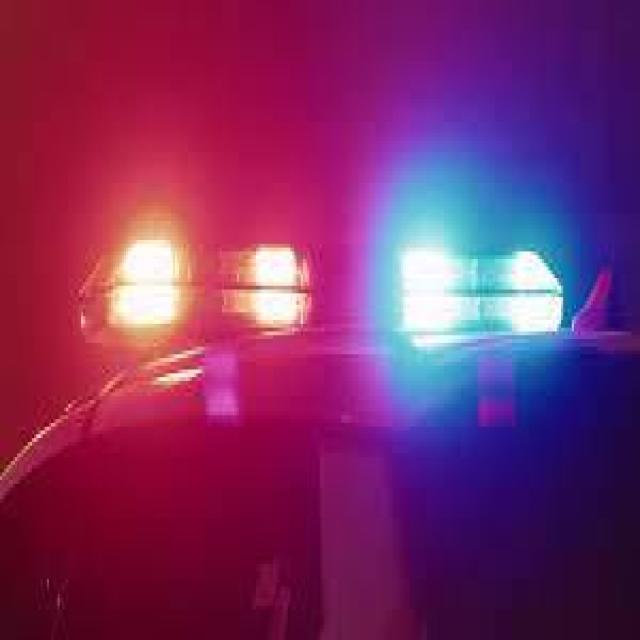ambulance: (2, 4, 640, 514)
